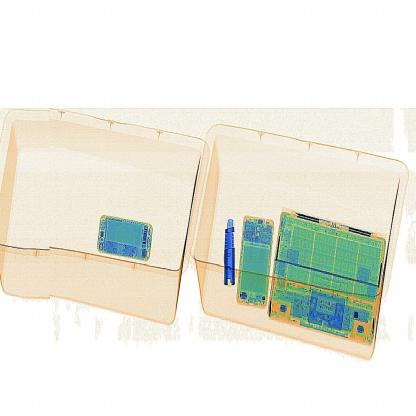pliers: (216, 210, 241, 295)
